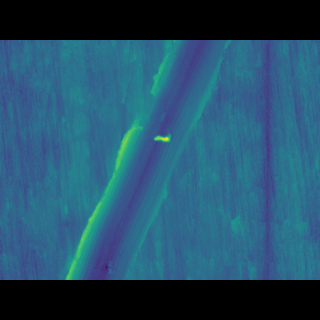Loch: (63, 70, 231, 250)
